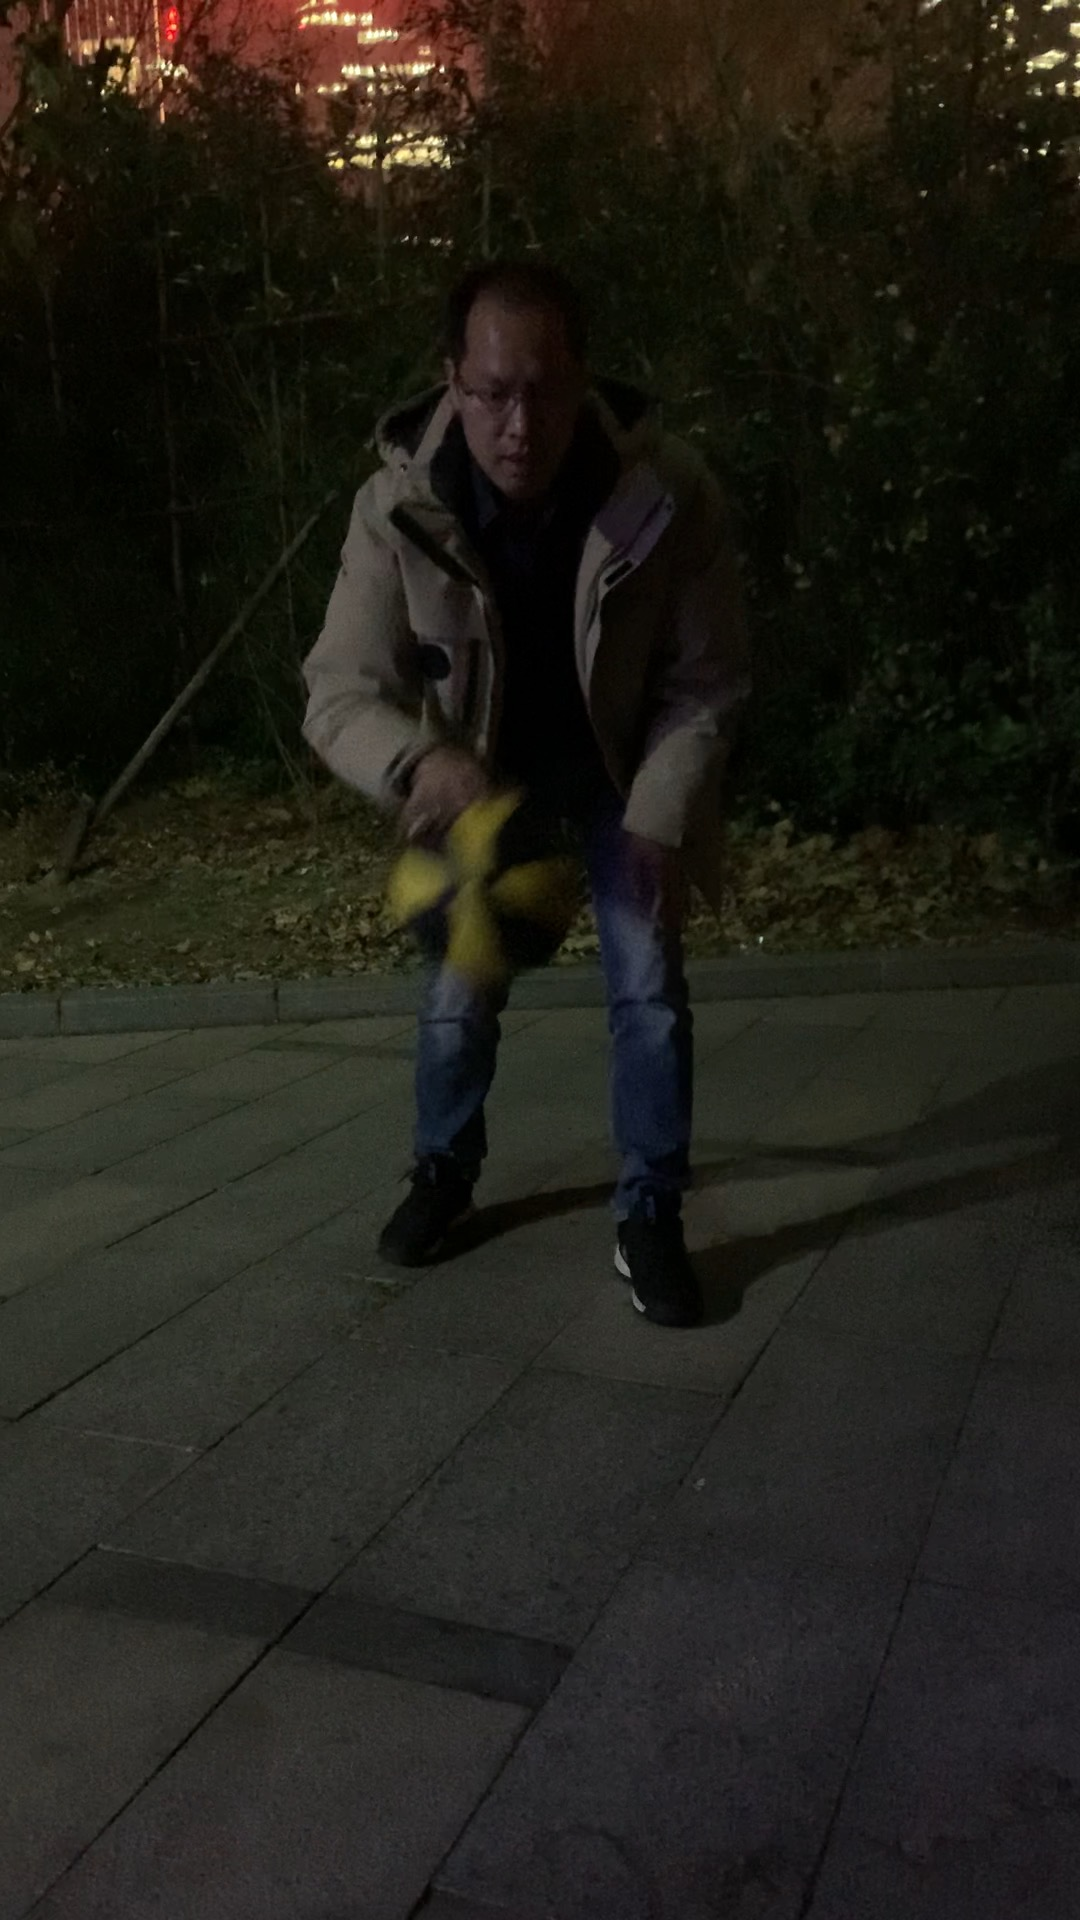ball: (385, 786, 582, 988)
